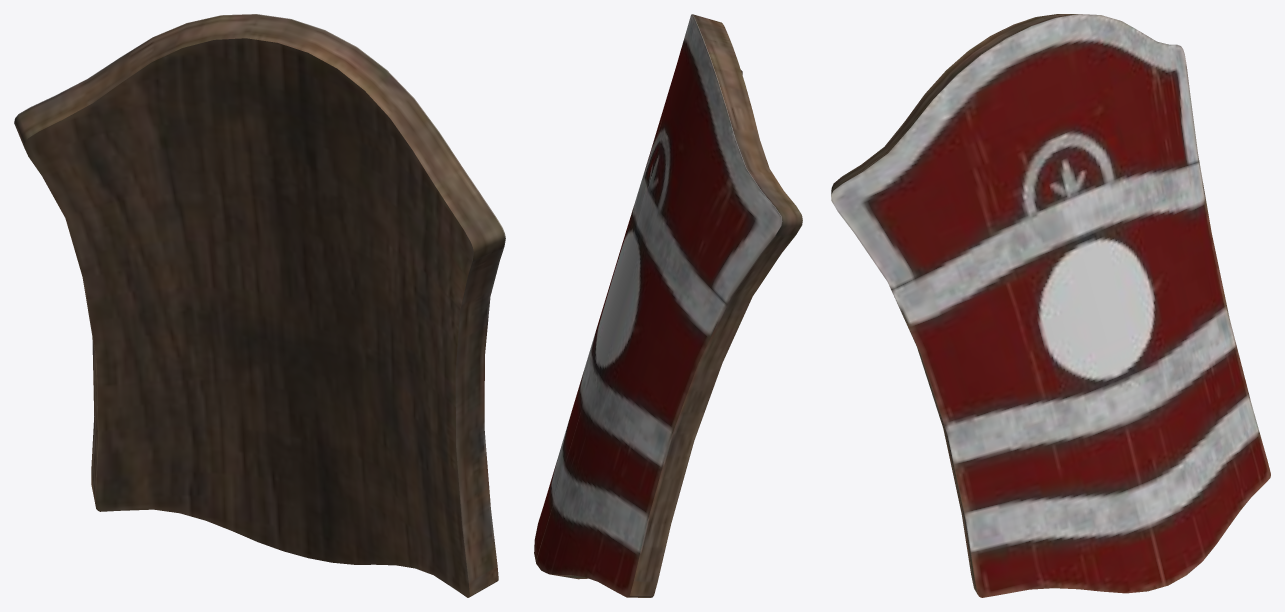
File: shield-coppershields.glb
3 views of the same model, side by side, from view 1: azimuth 30°, elevation 25°; view 2: azimuth 150°, elevation 25°; view 3: azimuth 270°, elevation 25° (orthographic). The views are drawn at different scales.
Bounding box in the file's own units: 0.3558 × 0.5594 × 0.4276.
Materials: 1 (1 with a texture image).
